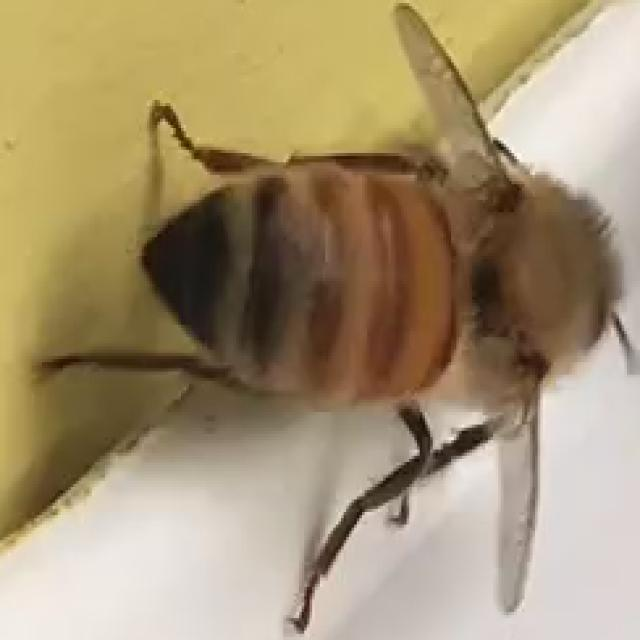honeybee: (109, 66, 640, 498)
